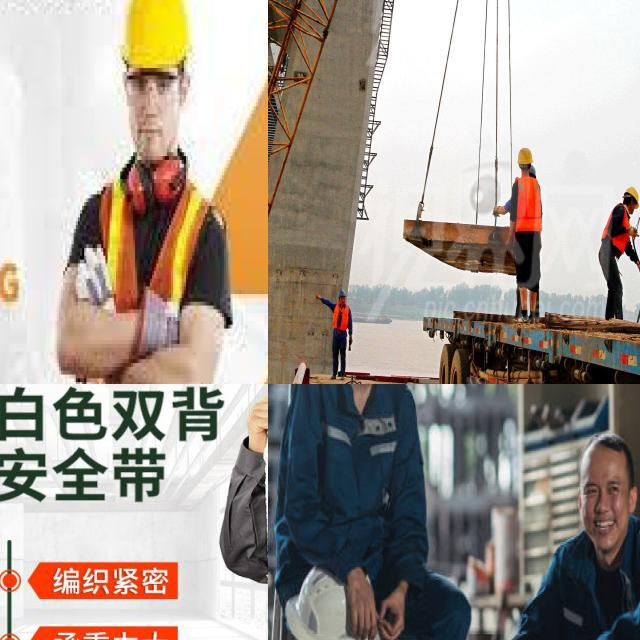Ear-protection: (119, 128, 192, 211)
No_Ear-Protection: (627, 487, 640, 512), (575, 487, 582, 509)
No_Glasses: (581, 480, 625, 498)
face_nomask: (580, 494, 631, 552)
hand_glove: (491, 198, 509, 228), (312, 292, 324, 306)
hand_noglove: (346, 567, 409, 640)
head_helmet: (623, 184, 640, 206), (516, 146, 535, 163), (528, 164, 538, 177), (336, 288, 347, 298)
head_nohelmet: (582, 432, 634, 487)
person: (508, 147, 541, 321), (599, 185, 640, 321), (330, 287, 351, 378)
shoes: (510, 308, 527, 328), (526, 309, 538, 327), (330, 368, 338, 382)
vest: (510, 176, 544, 237), (599, 201, 631, 259), (330, 299, 351, 333)
